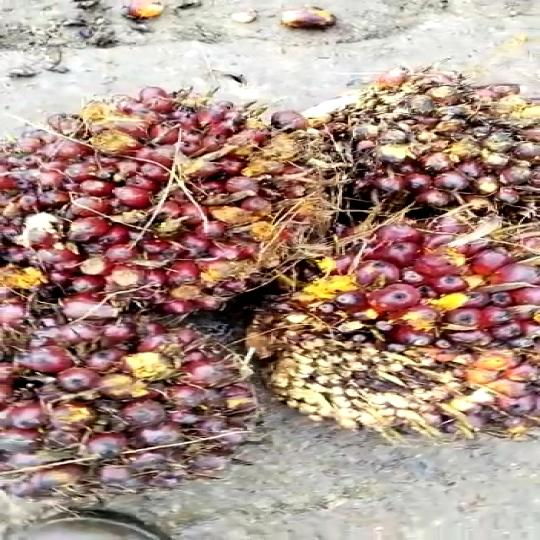masak: (0, 90, 339, 313), (239, 207, 540, 447), (0, 291, 270, 501)
